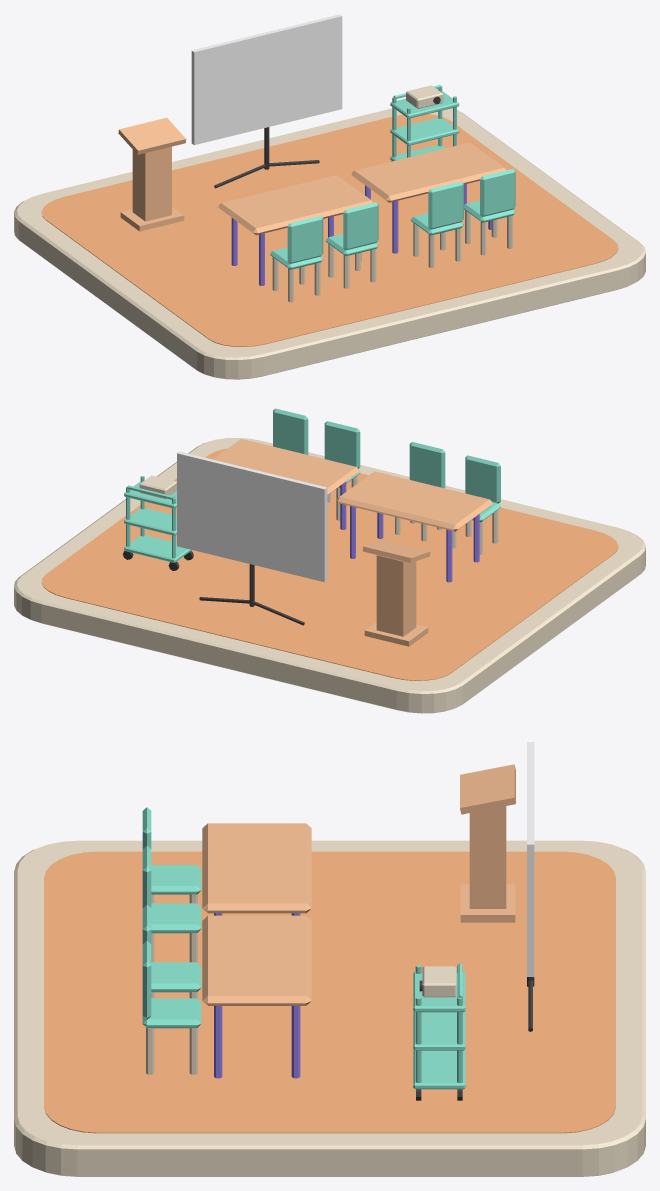
Rendered from room.fbx.
The picture shows the model from 3 angles, top to bottom: view 1: azimuth 30°, elevation 25°; view 2: azimuth 150°, elevation 25°; view 3: azimuth 270°, elevation 25°; orthographic projection. The views are drawn at different scales.
Parts seen in each view (by area): view 1: COM-02 Floor Surface, COM-01 Rounded Base Direct, Screen, Rounded table top.001, Rounded table top, Body, Reading top, Backrest, Backrest.003, Backrest.001, Backrest.002, Tray.001 (+3 smaller); view 2: COM-02 Floor Surface, COM-01 Rounded Base Direct, Screen, Rounded table top, Rounded table top.001, Body, Backrest.002, Backrest.001, Backrest, Backrest.003, Tray, Reading top (+4 smaller); view 3: COM-02 Floor Surface, COM-01 Rounded Base Direct, Rounded table top, Rounded table top.001, Body, Reading top, Screen, Tray, Tray.001, Seat.003, Seat.002, Seat.001 (+7 smaller).
Part boxes in pixels (x1=…): COM-02 Floor Surface: x1=41, y1=114, x2=618, y2=346; COM-01 Rounded Base Direct: x1=14, y1=108, x2=645, y2=379; Screen: x1=191, y1=14, x2=342, y2=145; Rounded table top.001: x1=351, y1=142, x2=506, y2=202; Rounded table top: x1=218, y1=175, x2=373, y2=235; Body: x1=132, y1=146, x2=171, y2=221; Reading top: x1=118, y1=117, x2=186, y2=154; Backrest: x1=287, y1=215, x2=323, y2=263; Backrest.003: x1=480, y1=169, x2=515, y2=216; Backrest.001: x1=343, y1=202, x2=378, y2=250; Backrest.002: x1=428, y1=181, x2=463, y2=229; Tray.001: x1=390, y1=118, x2=459, y2=145; COM-02 Floor Surface: x1=41, y1=448, x2=618, y2=680; COM-01 Rounded Base Direct: x1=14, y1=437, x2=645, y2=713; Screen: x1=177, y1=451, x2=327, y2=582; Rounded table top: x1=336, y1=471, x2=492, y2=531; Rounded table top.001: x1=213, y1=439, x2=359, y2=494; Body: x1=376, y1=555, x2=416, y2=636; Backrest.002: x1=324, y1=421, x2=360, y2=468; Backrest.001: x1=409, y1=442, x2=445, y2=488; Backrest: x1=465, y1=455, x2=500, y2=503; Backrest.003: x1=273, y1=408, x2=308, y2=454; Tray: x1=124, y1=535, x2=191, y2=562; Reading top: x1=362, y1=540, x2=430, y2=562; COM-02 Floor Surface: x1=44, y1=851, x2=615, y2=1133; COM-01 Rounded Base Direct: x1=14, y1=840, x2=645, y2=1176; Rounded table top: x1=202, y1=823, x2=311, y2=913; Rounded table top.001: x1=202, y1=915, x2=311, y2=1005; Body: x1=469, y1=806, x2=506, y2=908; Reading top: x1=460, y1=764, x2=515, y2=814; Screen: x1=527, y1=742, x2=534, y2=976; Tray: x1=413, y1=1050, x2=465, y2=1089; Tray.001: x1=413, y1=1011, x2=465, y2=1050; Seat.003: x1=142, y1=998, x2=201, y2=1028; Seat.002: x1=151, y1=962, x2=201, y2=992; Seat.001: x1=151, y1=903, x2=201, y2=933.
Bounding box in the file's own units: 600 × 215 × 520.
